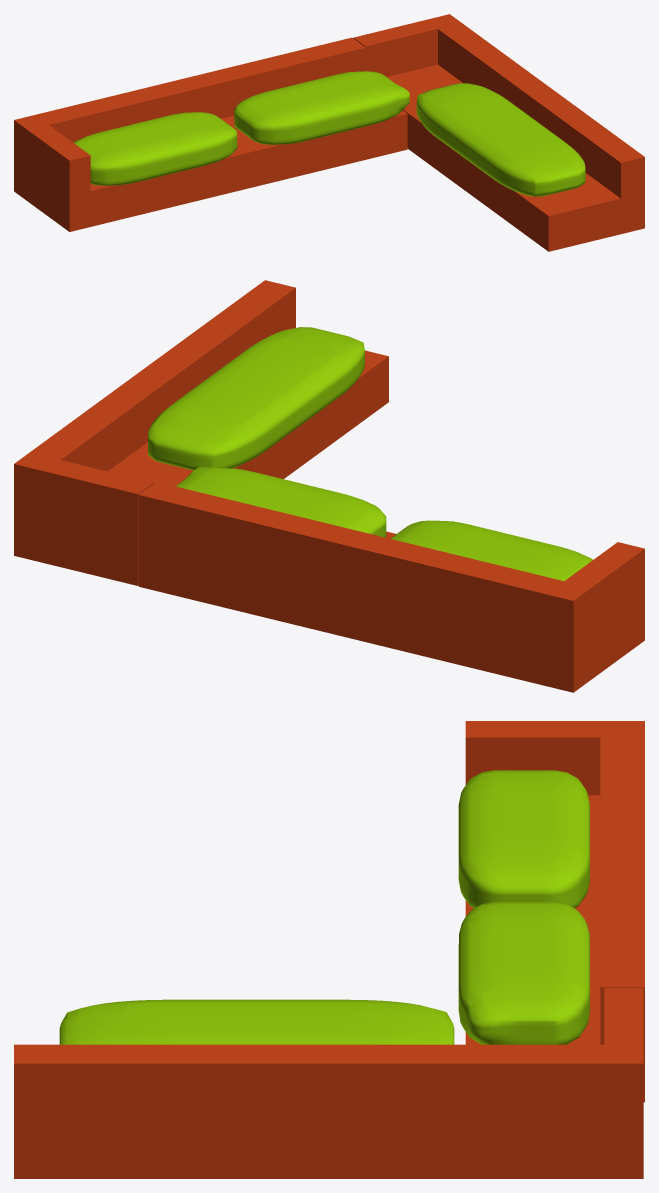
The model's file is sofa.obj.
3 renders of one model, top to bottom at view 1: azimuth 30°, elevation 25°; view 2: azimuth 150°, elevation 25°; view 3: azimuth 270°, elevation 25°, orthographic. The views are drawn at different scales.
Visible parts, largest first — view 1: Cube, Mball, Cube.001; view 2: Cube, Cube.001, Mball; view 3: Cube.001, Mball, Cube.
Boxes of the visible parts, left/top/right/bottom form: Cube: left=14, top=37, right=407, bottom=231; Mball: left=73, top=71, right=585, bottom=196; Cube.001: left=353, top=14, right=644, bottom=251; Cube: left=138, top=482, right=644, bottom=692; Cube.001: left=14, top=280, right=388, bottom=585; Mball: left=148, top=327, right=592, bottom=580; Cube.001: left=14, top=988, right=643, bottom=1178; Mball: left=59, top=770, right=589, bottom=1044; Cube: left=465, top=721, right=644, bottom=1102.
Size of the model in its own units: 9.04 by 1.42 by 7.04.
